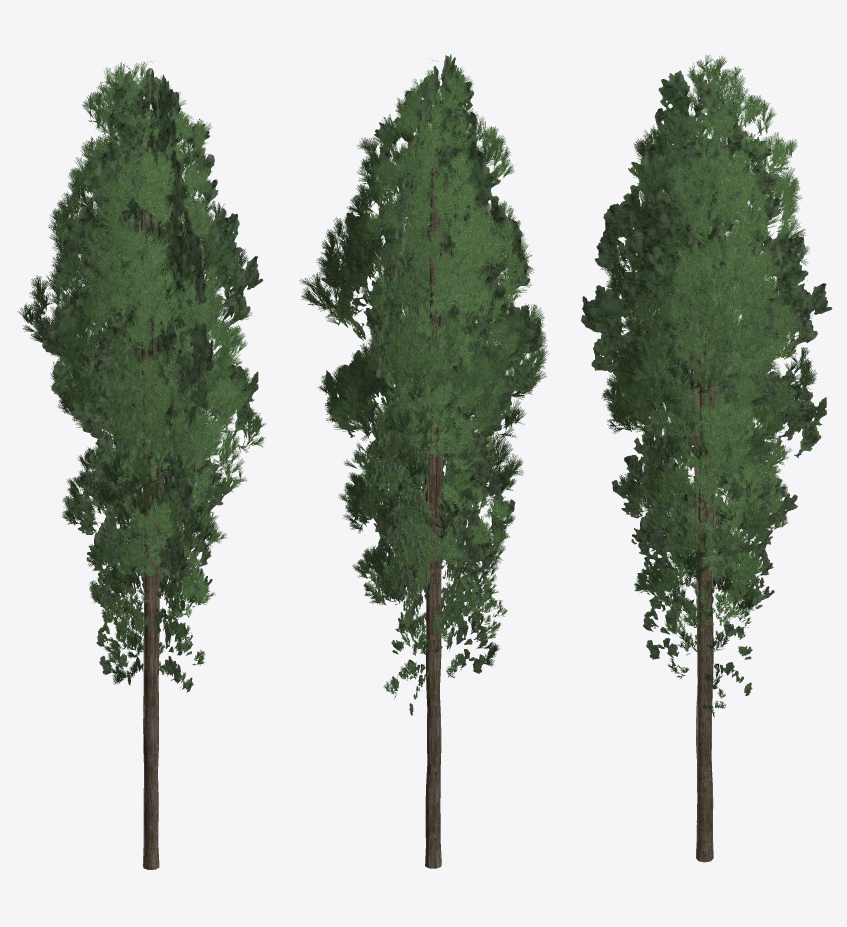
The model's file is tall_pines.glb.
3 renders of one model, left to right at view 1: azimuth 30°, elevation 25°; view 2: azimuth 150°, elevation 25°; view 3: azimuth 270°, elevation 25°, orthographic.
Parts seen in each view (by area): view 1: tall_pine_5_LOD0, tall_pine_4_LOD0, tall_pine_5_BB, tall_pine_4_BB, tall_pine_3_LOD0, tall_pine_2_LOD0, tall_pine_2_BB, tall_pine_3_BB, tall_pine_1_LOD0, tall_pine_1_BB; view 2: tall_pine_5_LOD0, tall_pine_4_LOD0, tall_pine_5_BB, tall_pine_3_LOD0, tall_pine_2_LOD0, tall_pine_4_BB, tall_pine_3_BB, tall_pine_2_BB, tall_pine_1_BB, tall_pine_1_LOD0; view 3: tall_pine_5_LOD0, tall_pine_3_LOD0, tall_pine_5_BB, tall_pine_4_BB, tall_pine_4_LOD0, tall_pine_2_LOD0, tall_pine_3_BB, tall_pine_2_BB, tall_pine_1_LOD0, tall_pine_1_BB.
Part boxes in pixels (x1,y1,x2,y2): tall_pine_5_LOD0: (17, 61, 252, 869); tall_pine_4_LOD0: (53, 147, 242, 701); tall_pine_5_BB: (42, 61, 263, 868); tall_pine_4_BB: (72, 140, 219, 758); tall_pine_3_LOD0: (57, 261, 265, 812); tall_pine_2_LOD0: (62, 391, 226, 684); tall_pine_2_BB: (69, 380, 222, 683); tall_pine_3_BB: (74, 269, 258, 812); tall_pine_1_LOD0: (90, 510, 215, 689); tall_pine_1_BB: (92, 507, 212, 692); tall_pine_5_LOD0: (299, 66, 549, 868); tall_pine_4_LOD0: (347, 150, 541, 809); tall_pine_5_BB: (321, 54, 542, 867); tall_pine_3_LOD0: (317, 251, 525, 755); tall_pine_2_LOD0: (344, 376, 516, 770); tall_pine_4_BB: (367, 148, 511, 700); tall_pine_3_BB: (326, 253, 511, 819); tall_pine_2_BB: (366, 379, 515, 673); tall_pine_1_BB: (372, 494, 492, 715); tall_pine_1_LOD0: (363, 493, 507, 698); tall_pine_5_LOD0: (600, 54, 817, 862); tall_pine_3_LOD0: (607, 245, 794, 770); tall_pine_5_BB: (581, 66, 832, 857); tall_pine_4_BB: (616, 149, 783, 758); tall_pine_4_LOD0: (601, 138, 812, 581); tall_pine_2_LOD0: (618, 380, 788, 763); tall_pine_3_BB: (616, 243, 826, 825); tall_pine_2_BB: (611, 388, 786, 659); tall_pine_1_LOD0: (634, 500, 757, 717); tall_pine_1_BB: (637, 496, 774, 695).
Size of what is drawn, in the model's own units: 7.06 by 24.38 by 7.06.
Materials: 7 (7 with a texture image).
